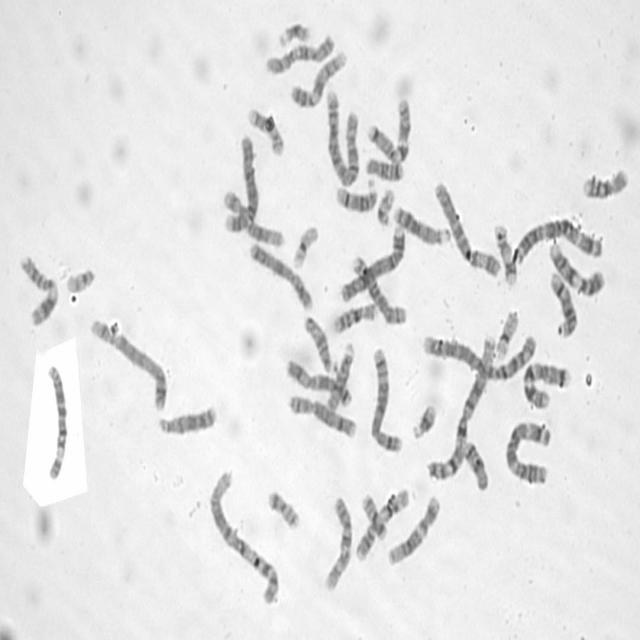A1: (424, 329, 496, 483), (206, 465, 280, 606)
A2: (421, 329, 537, 381), (323, 84, 361, 188)
A3: (511, 214, 603, 267), (503, 417, 552, 486)
B4: (337, 222, 406, 305), (221, 131, 259, 236)
B5: (88, 314, 168, 413), (368, 344, 404, 454)
C10: (262, 29, 336, 78), (321, 492, 354, 592)
C11: (355, 486, 410, 564), (17, 250, 60, 328)
C12: (385, 491, 441, 567), (222, 186, 286, 250)
C6: (432, 178, 502, 280), (43, 360, 69, 483)
C7: (366, 94, 414, 165), (519, 357, 573, 412)
C8: (351, 253, 408, 327), (286, 391, 358, 441)
C9: (288, 46, 348, 110), (546, 240, 606, 298)
D13: (392, 202, 451, 246), (156, 402, 218, 436)
D14: (547, 268, 579, 340), (333, 177, 378, 214)
D15: (324, 341, 356, 413), (302, 311, 336, 375)
E16: (580, 164, 630, 203), (330, 299, 378, 335)
E17: (247, 106, 286, 157), (492, 221, 517, 287)
E18: (462, 436, 491, 492), (363, 154, 405, 183)
F19: (289, 222, 320, 271), (494, 308, 520, 361)
F20: (265, 486, 302, 532), (360, 491, 388, 541)
G21: (409, 400, 438, 441), (276, 19, 311, 49)
G22: (64, 264, 96, 294), (375, 186, 396, 227)
X: (247, 240, 314, 312), (221, 131, 259, 236), (285, 355, 353, 409)
